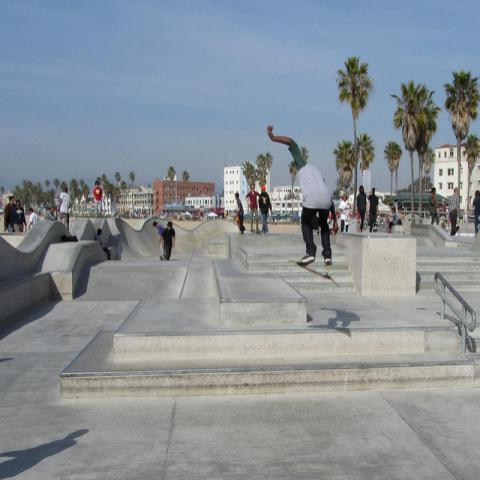car: (129, 211, 139, 218), (208, 212, 217, 218), (271, 214, 278, 219), (186, 215, 191, 220)
